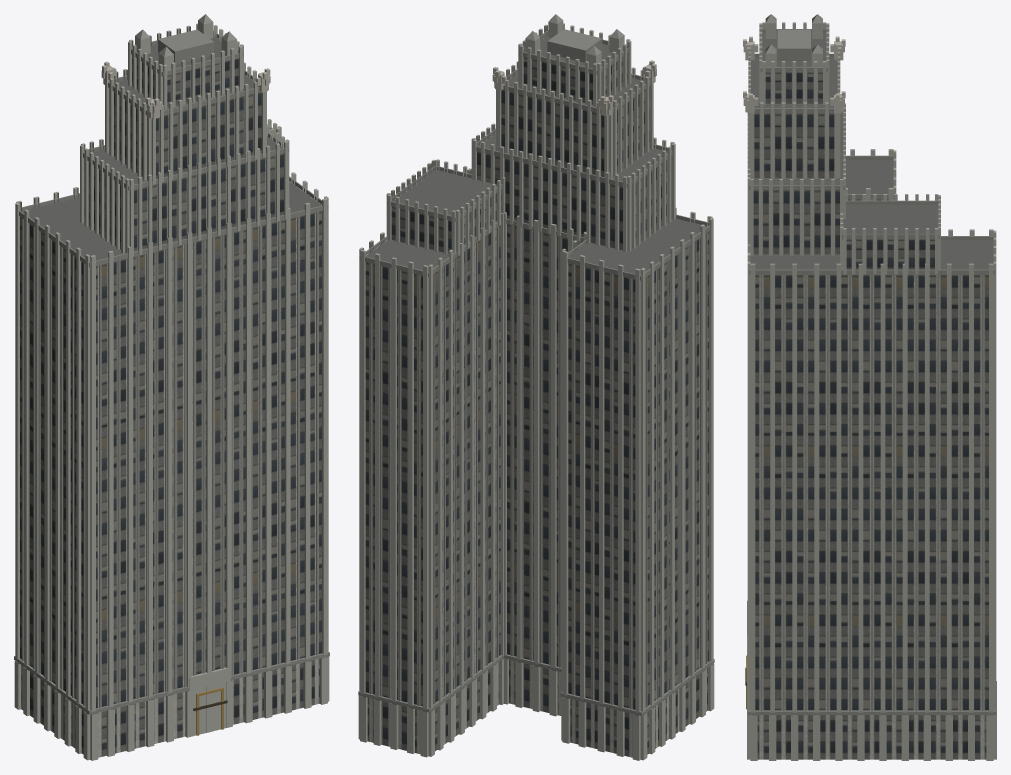
The model's file is pacbell_building.glb.
The picture shows the model from 3 angles, left to right: view 1: azimuth 30°, elevation 25°; view 2: azimuth 150°, elevation 25°; view 3: azimuth 270°, elevation 25°; orthographic projection. The views are drawn at different scales.
Parts seen in each view (by area): view 1: pacbell_building; view 2: pacbell_building; view 3: pacbell_building.
Boxes of the visible parts, left/top/right/bottom form: pacbell_building: left=14, top=14, right=329, bottom=760; pacbell_building: left=358, top=14, right=714, bottom=760; pacbell_building: left=743, top=14, right=996, bottom=760.
Bounding box in the file's own units: 49.2 × 133 × 45.43.
2 materials, 2 textured.
